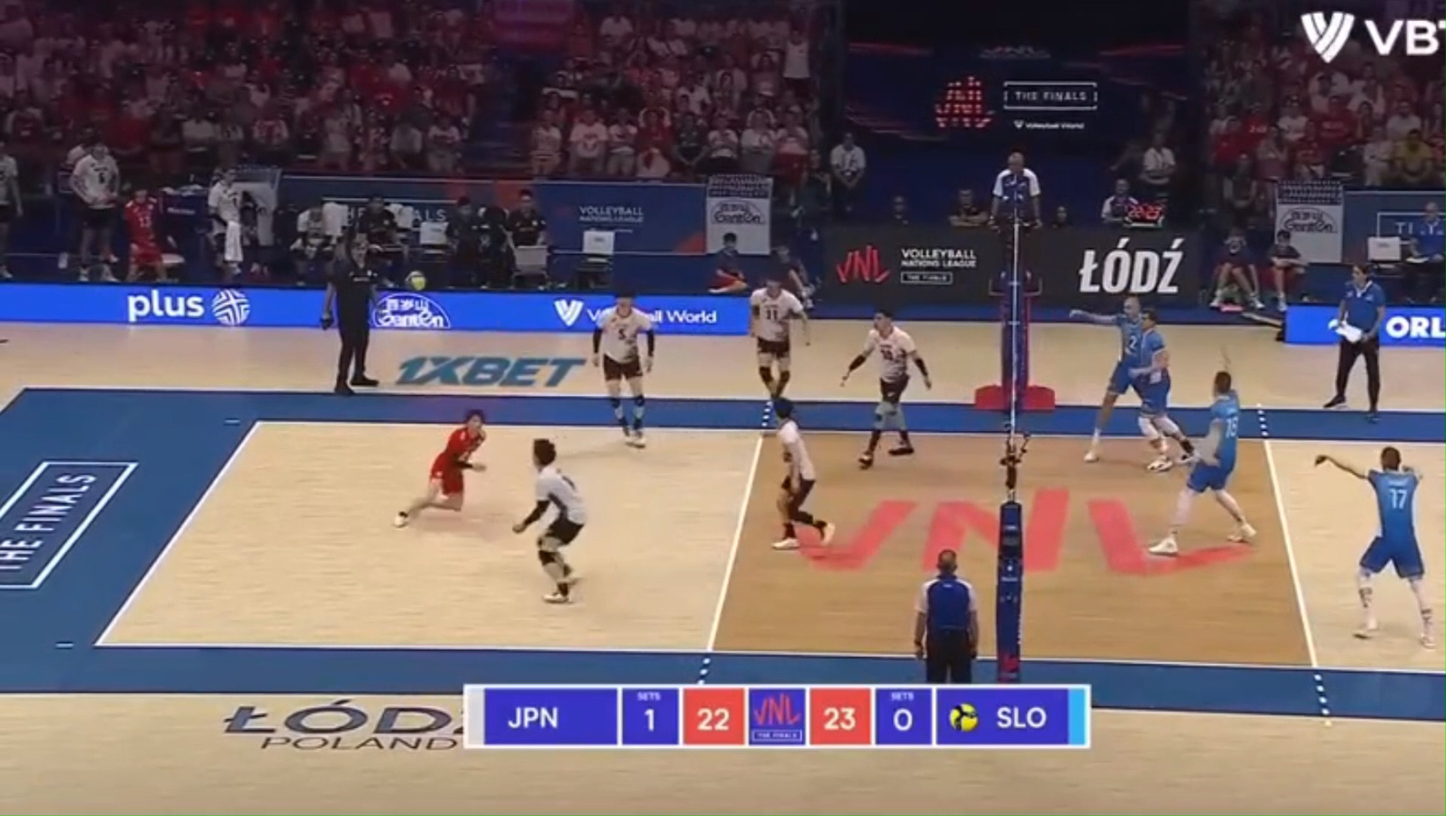ball: (405, 270, 428, 292)
player: (1315, 446, 1433, 647), (1148, 369, 1255, 556), (1071, 296, 1148, 461), (1124, 310, 1194, 471)
player 1: (841, 311, 932, 468), (512, 438, 588, 604), (394, 410, 486, 527), (592, 295, 655, 448), (771, 397, 834, 550), (749, 277, 809, 396)
referee: (1324, 265, 1386, 421), (321, 236, 378, 394), (990, 151, 1040, 319), (915, 549, 977, 683)
